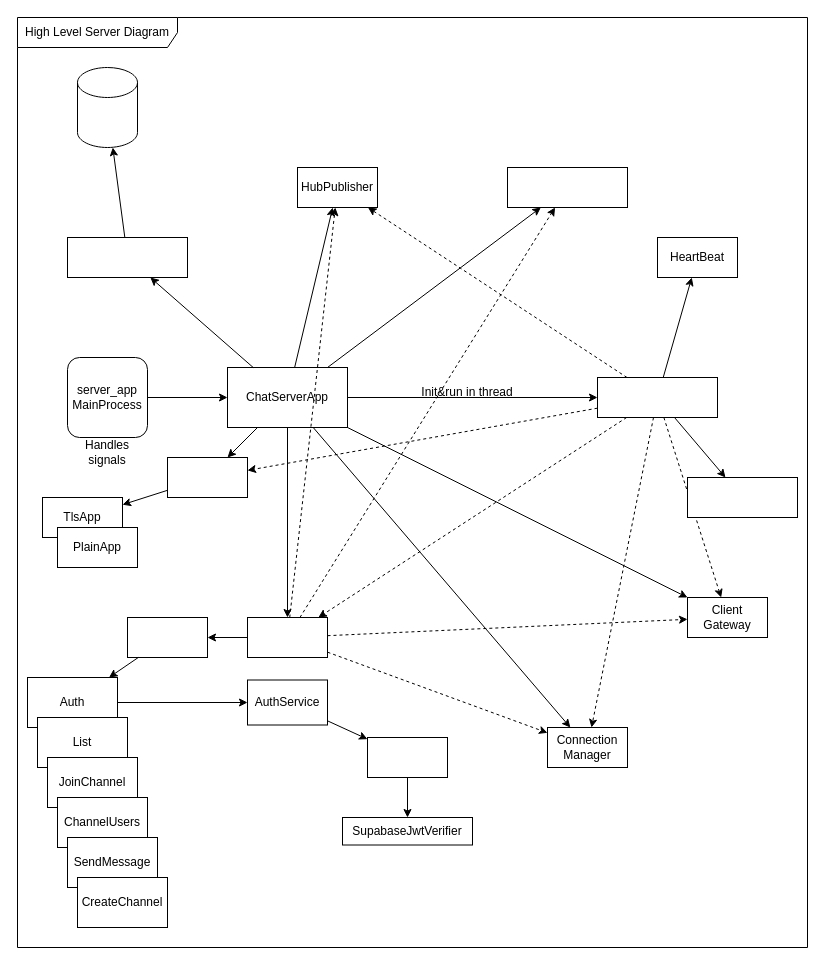
This 825x965 diagram has some shape labels left out. The shapes that lost their labels are listed below. From the top down, each one's box as (x1, y1, x2, y2) in pixels, then its label:
(76, 66, 138, 148): Supabase PG
(506, 166, 628, 208): PublicIdService
(66, 236, 188, 278): PersistenceGateway
(596, 376, 718, 418): WebSocketServer
(166, 456, 248, 498): «interface» IApp
(686, 476, 798, 518): MessageValidator
(126, 616, 208, 658): «interface» ICommand
(246, 616, 328, 658): Dispatcher
(366, 736, 448, 778): «interface» ITokenVerifier
